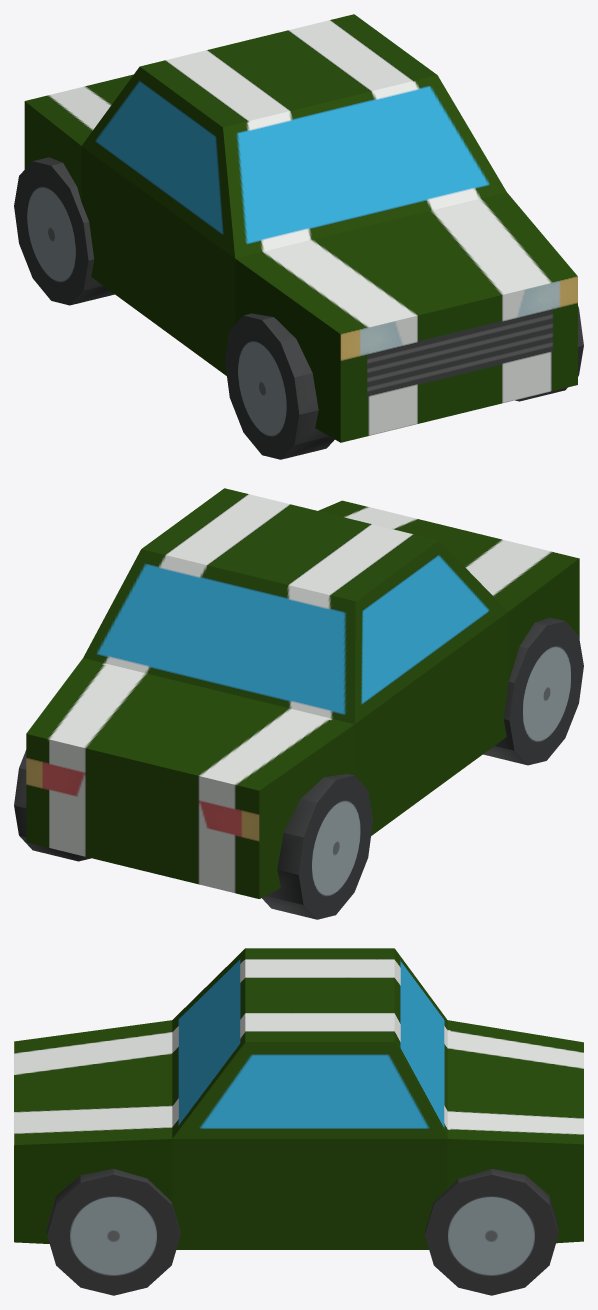
Rendered from Racecar.fbx.
The picture shows the model from 3 angles, top to bottom: view 1: azimuth 30°, elevation 25°; view 2: azimuth 150°, elevation 25°; view 3: azimuth 270°, elevation 25°; orthographic projection. The views are drawn at different scales.
Visible parts, largest first — view 1: Car, FR, RR; view 2: Car, RR, FR, RL; view 3: Car, RL, FL.
Boxes of the visible parts, x1,y1,x2,y2 form: Car: (24, 14, 577, 442); FR: (225, 313, 334, 459); RR: (14, 157, 114, 305); Car: (26, 488, 579, 898); RR: (262, 773, 372, 919); FR: (483, 617, 583, 765); RL: (14, 750, 90, 861); Car: (14, 948, 583, 1249); RL: (425, 1169, 558, 1295); FL: (47, 1169, 180, 1295).
Size of the model in its own units: 207 by 184 by 400.
